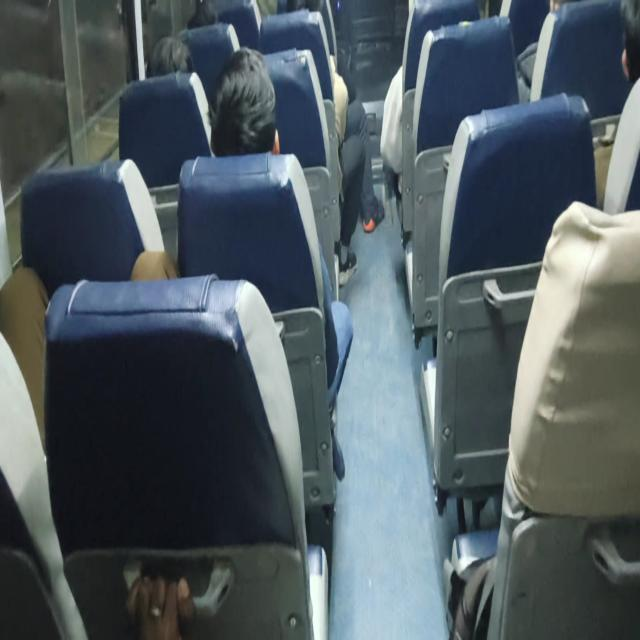person: (229, 77, 293, 162), (604, 0, 640, 80), (149, 32, 195, 75), (172, 0, 228, 31)
